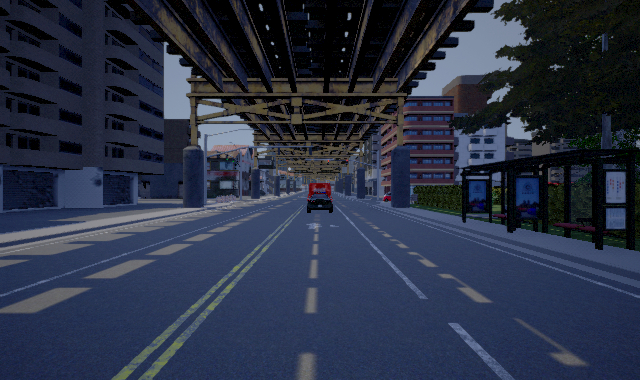vehicle: (307, 193, 333, 213)
